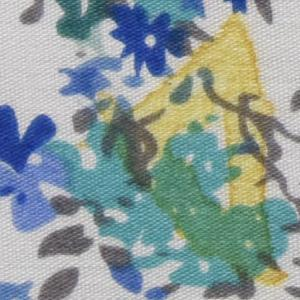Oil Stain: (74, 11, 293, 290)
